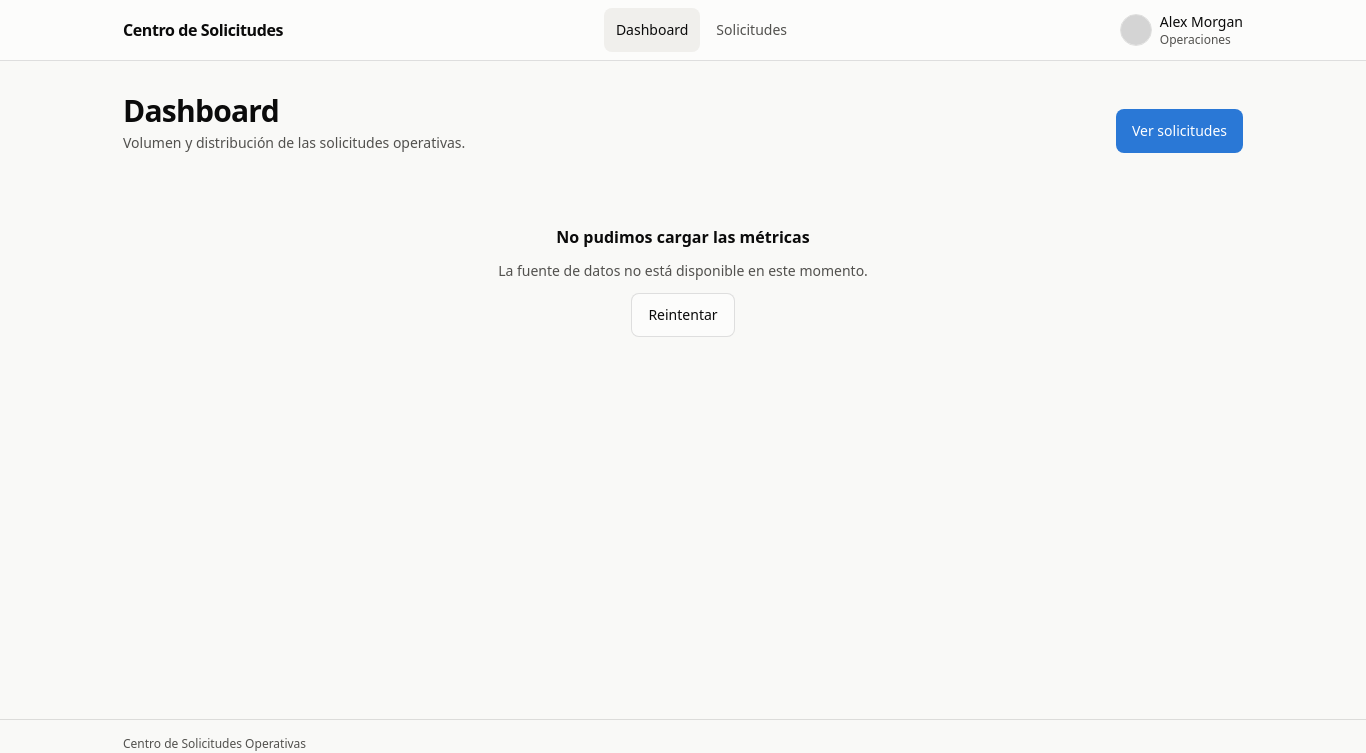
Scenario: Dashboard › shows an error with a retry action when the metrics fail
The image size is (1366, 753).
Expected: the message shows "No pudimos cargar las métricas", [556,226,810,248]
Expected: the message shows "La fuente de datos no está disponible", [498,261,868,280]
Step 1. Click the button "Reintentar" → click(683, 315), box [631,293,735,337]
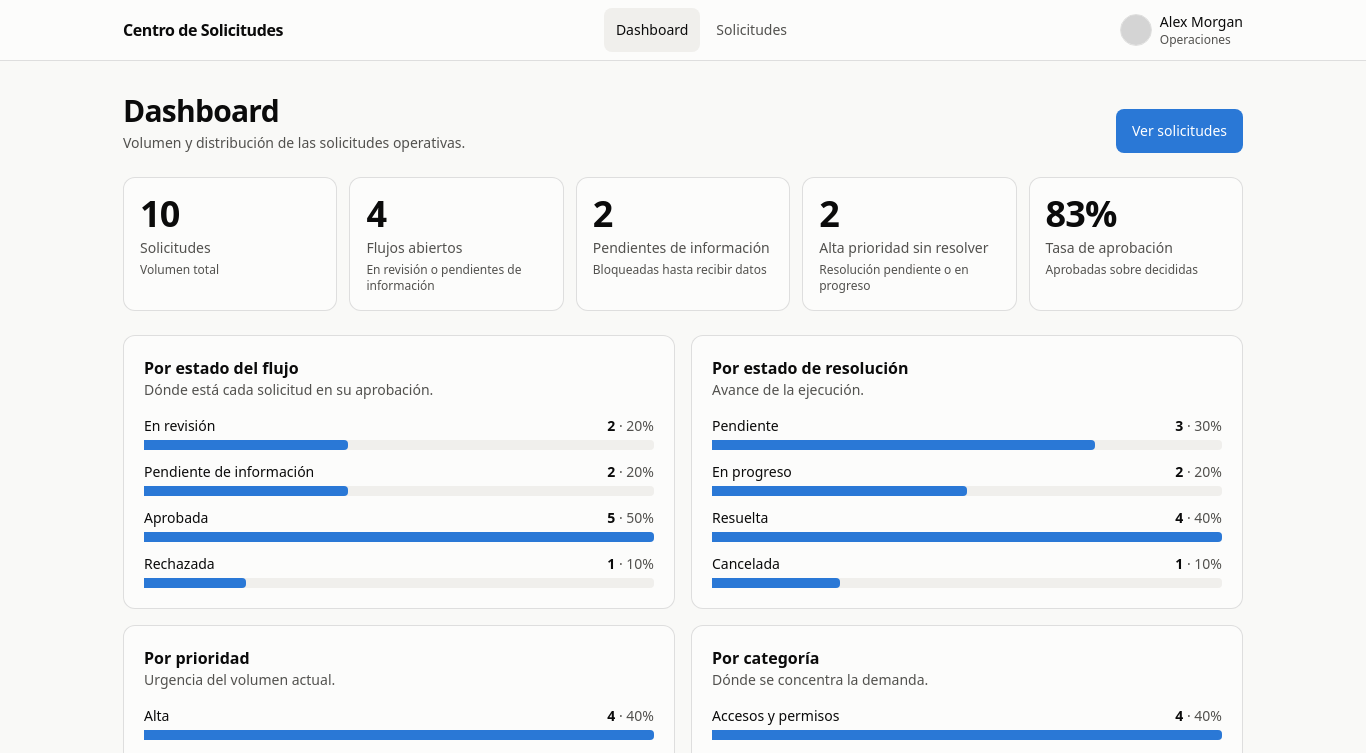
Result: the element named "Indicadores principales" is shown at [123,177,1243,311]
